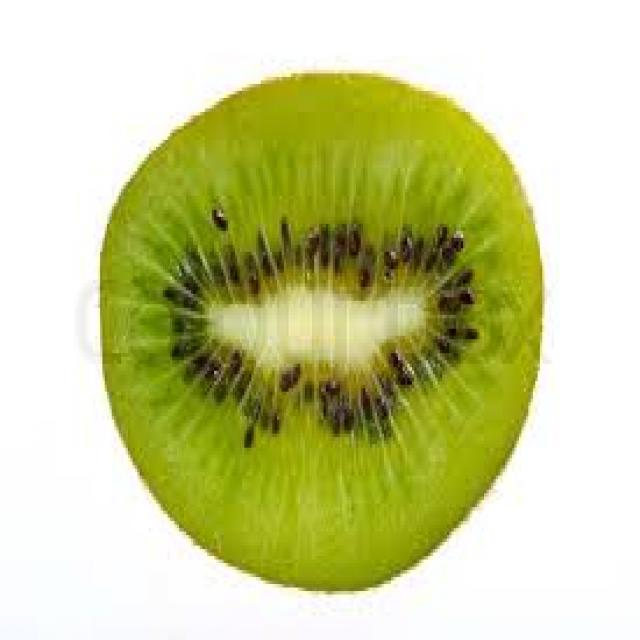organic waste: (95, 70, 540, 591)
